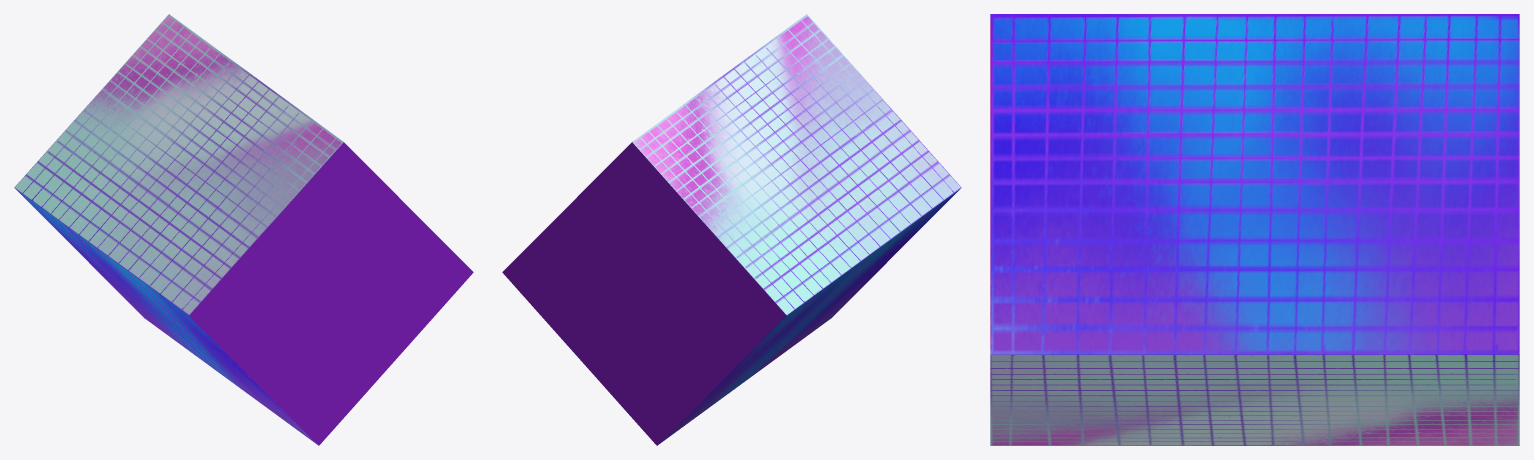
The model's file is Build_B_Top.obj.
The picture shows the model from 3 angles, left to right: view 1: azimuth 30°, elevation 25°; view 2: azimuth 150°, elevation 25°; view 3: azimuth 270°, elevation 25°; orthographic projection. The views are drawn at different scales.
Visible parts, largest first — view 1: Build_B_Top; view 2: Build_B_Top; view 3: Build_B_Top.
Boxes of the visible parts, x1,y1,x2,y2 form: Build_B_Top: (14,14,473,445); Build_B_Top: (502,14,961,445); Build_B_Top: (990,14,1519,445).
Size of the model in its own units: 0.372 by 0.3719 by 0.396.
1 material, 1 textured.
